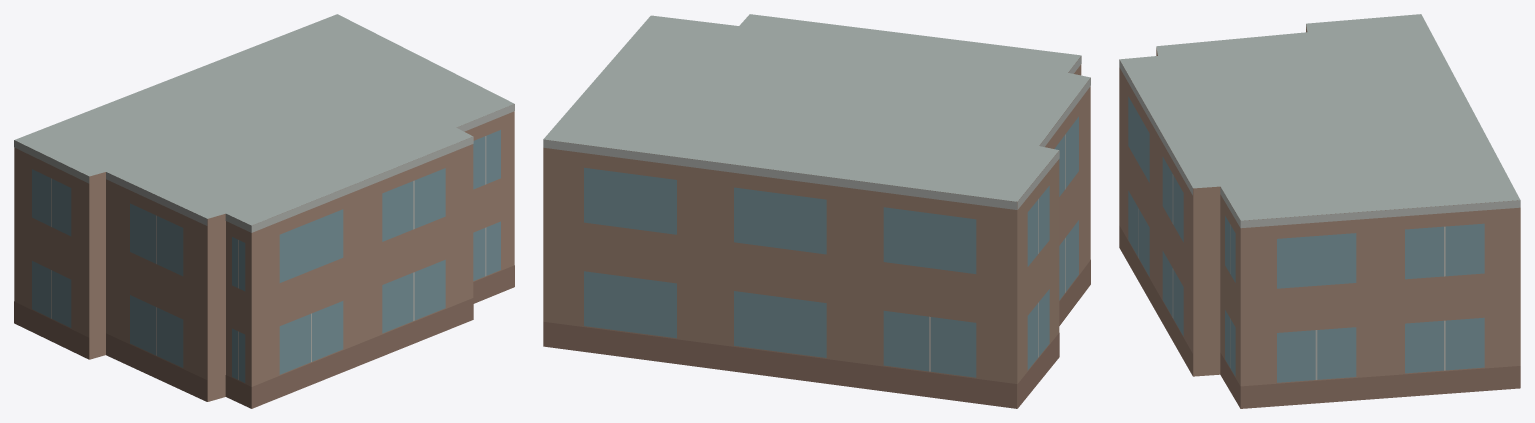
The model's file is survey-upis-32734801.glb.
3 views of the same model, side by side, from view 1: azimuth 30°, elevation 25°; view 2: azimuth 150°, elevation 25°; view 3: azimuth 270°, elevation 25° (orthographic). The views are drawn at different scales.
Parts seen in each view (by area): view 1: survey-upis-32734801.tmp; view 2: survey-upis-32734801.tmp; view 3: survey-upis-32734801.tmp.
Boxes of the visible parts, bbox=[...] form: survey-upis-32734801.tmp: bbox=[14, 14, 514, 408]; survey-upis-32734801.tmp: bbox=[543, 14, 1090, 408]; survey-upis-32734801.tmp: bbox=[1119, 14, 1520, 408].
Bounding box in the file's own units: 14.38 × 6.1 × 11.8.
